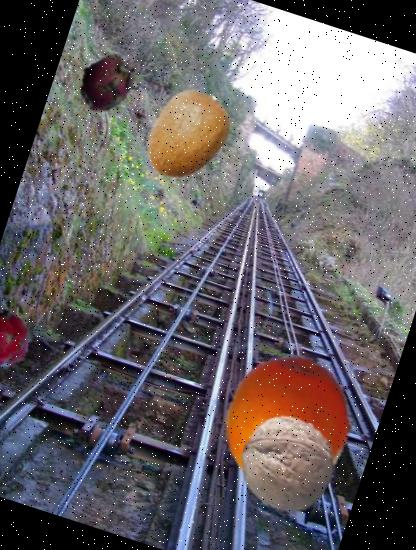Kiwi: (128, 76, 246, 194)
Pitahaya: (64, 33, 156, 125), (0, 299, 43, 380)
Tangelo: (201, 337, 374, 510)
Walnut: (228, 404, 346, 522)
